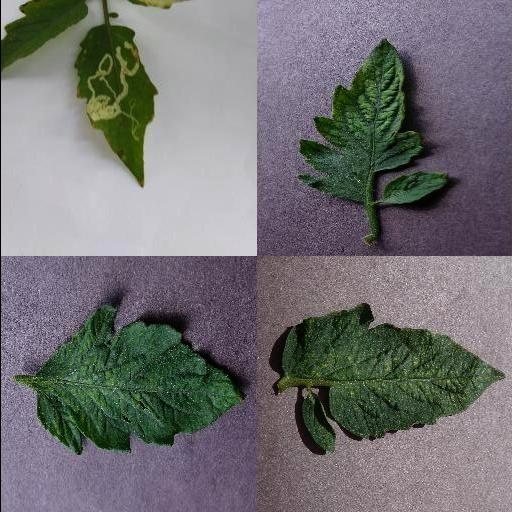Leaf Miner: (75, 25, 157, 187)
Mosaic Virus: (35, 302, 245, 454), (297, 39, 421, 205)
Spider Mites: (279, 304, 507, 440)
